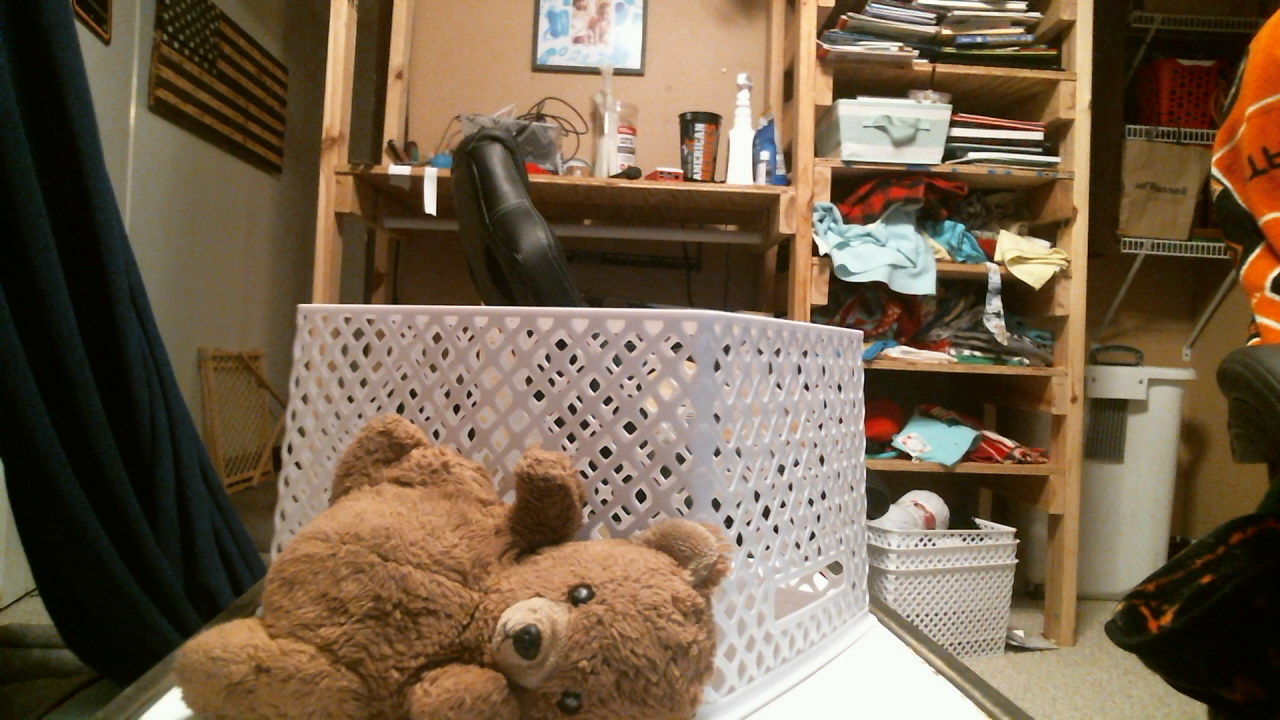Little_Mister_Bear: (495, 578, 595, 718)
